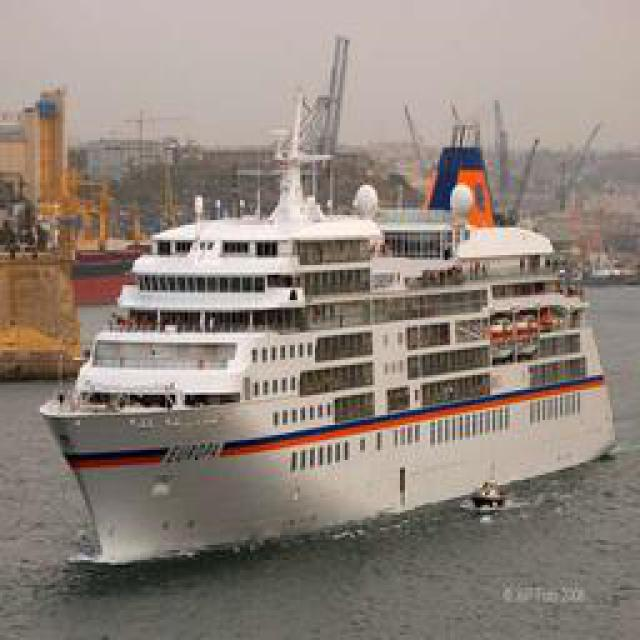Ship: (35, 36, 613, 564)
